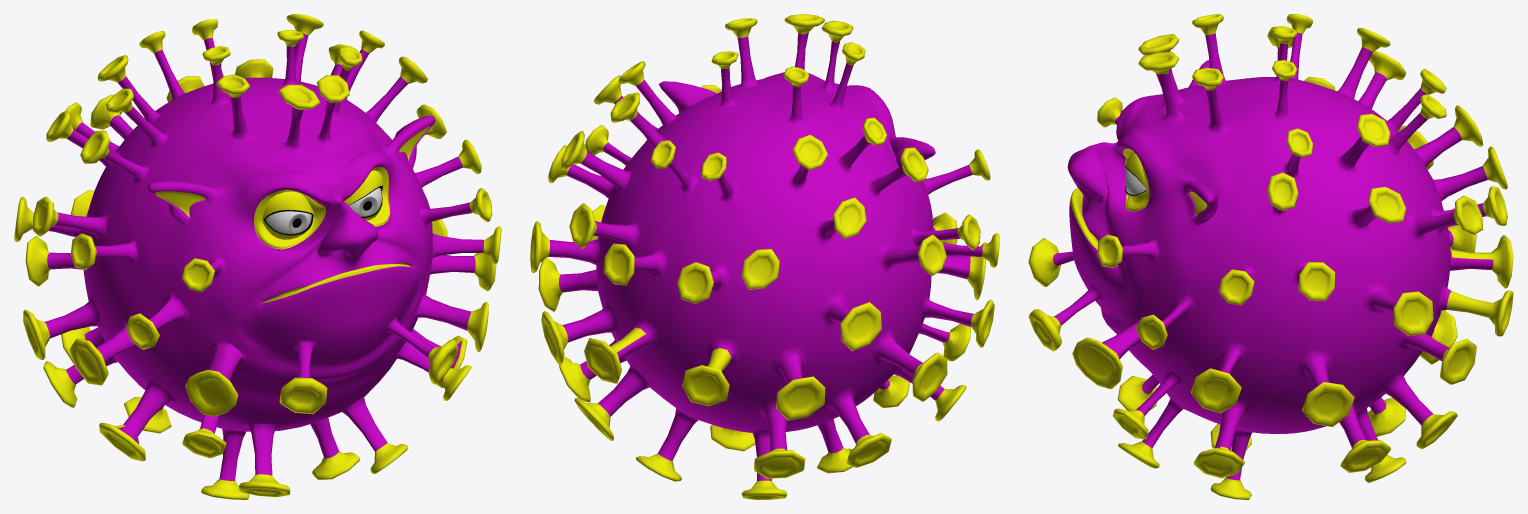
File: Corona_04.fbx
3 renders of one model, left to right at view 1: azimuth 30°, elevation 25°; view 2: azimuth 150°, elevation 25°; view 3: azimuth 270°, elevation 25°, orthographic. The views are drawn at different scales.
Parts seen in each view (by area): view 1: polySurface6; view 2: polySurface6; view 3: polySurface6.
Part boxes in pixels (<box>): polySurface6: <box>14,14,501,499</box>; polySurface6: <box>530,14,999,499</box>; polySurface6: <box>1028,14,1513,499</box>.
Bounding box in the file's own units: 11.62 × 11.6 × 11.84.
